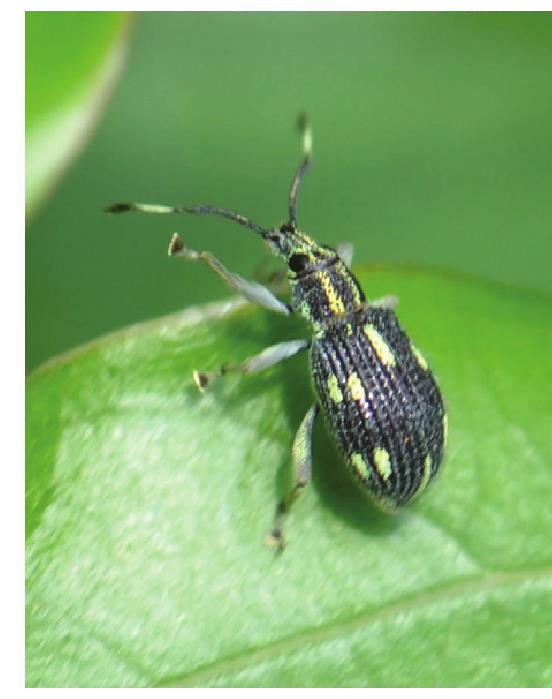Curculionidae: (100, 110, 448, 559)
